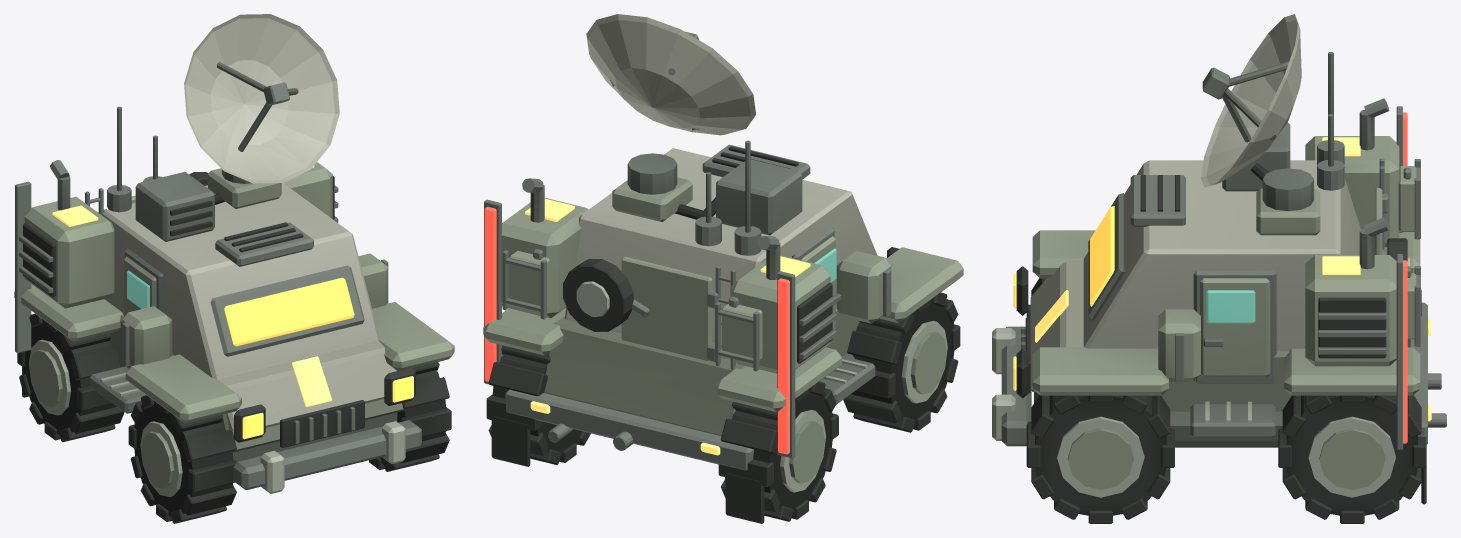
3 views of the same model, side by side, from view 1: azimuth 30°, elevation 25°; view 2: azimuth 150°, elevation 25°; view 3: azimuth 270°, elevation 25° (orthographic). The views are drawn at different scales.
Visible parts, largest first — view 1: Sloped command cabin, Reflector, Armoured hood, Generator pod, Amber windshield, Wheel arch, Impact bumper, Window gasket, Radio electronics, Wheel arch.002, Road wheel, Wheel arch.001 (+36 smaller); view 2: Sloped command cabin, Lower hull, Reflector, Rear hatch, Rear bumper, Radio electronics, Generator pod.001, Generator pod, Wheel arch, Wheel arch.001, Road wheel, Spare tyre (+32 smaller); view 3: Sloped command cabin, Reflector, Wheel arch.002, Road wheel.002, Road wheel.003, Generator pod.001, Access door.001, Wheel arch.003, Generator pod, Armoured hood, Lower hull, Hub cap.003 (+39 smaller).
Part boxes in pixels (left/top/right/bottom): Sloped command cabin: left=102, top=183, right=379, bottom=379; Reflector: left=184, top=14, right=339, bottom=183; Armoured hood: left=218, top=340, right=396, bottom=432; Generator pod: left=24, top=196, right=114, bottom=308; Amber windshield: left=224, top=277, right=354, bottom=346; Wheel arch: left=125, top=354, right=241, bottom=423; Impact bumper: left=233, top=420, right=421, bottom=490; Window gasket: left=210, top=265, right=364, bottom=356; Radio electronics: left=135, top=172, right=214, bottom=241; Wheel arch.002: left=372, top=302, right=454, bottom=370; Road wheel: left=134, top=400, right=233, bottom=516; Wheel arch.001: left=14, top=284, right=122, bottom=341; Sloped command cabin: left=565, top=148, right=877, bottom=360; Lower hull: left=544, top=303, right=859, bottom=436; Reflector: left=586, top=14, right=756, bottom=135; Rear hatch: left=621, top=256, right=712, bottom=360; Rear bumper: left=505, top=389, right=753, bottom=470; Radio electronics: left=716, top=159, right=802, bottom=235; Generator pod.001: left=501, top=198, right=588, bottom=318; Generator pod: left=730, top=255, right=830, bottom=373; Wheel arch: left=879, top=247, right=963, bottom=323; Wheel arch.001: left=715, top=347, right=841, bottom=412; Road wheel: left=851, top=298, right=954, bottom=424; Spare tyre: left=563, top=259, right=633, bottom=331; Sloped command cabin: left=1083, top=160, right=1360, bottom=350; Reflector: left=1200, top=14, right=1301, bottom=187; Wheel arch.002: left=1032, top=347, right=1168, bottom=395; Road wheel.002: left=1035, top=395, right=1166, bottom=515; Road wheel.003: left=1286, top=395, right=1417, bottom=515; Generator pod.001: left=1305, top=255, right=1396, bottom=366; Access door.001: left=1200, top=278, right=1270, bottom=376; Wheel arch.003: left=1284, top=347, right=1420, bottom=395; Generator pod: left=1305, top=136, right=1399, bottom=247; Armoured hood: left=1030, top=259, right=1083, bottom=391; Lower hull: left=1034, top=350, right=1291, bottom=411; Hub cap.003: left=1319, top=428, right=1385, bottom=489.
Bounding box in the file's own units: 1.49 × 1.96 × 1.79.
